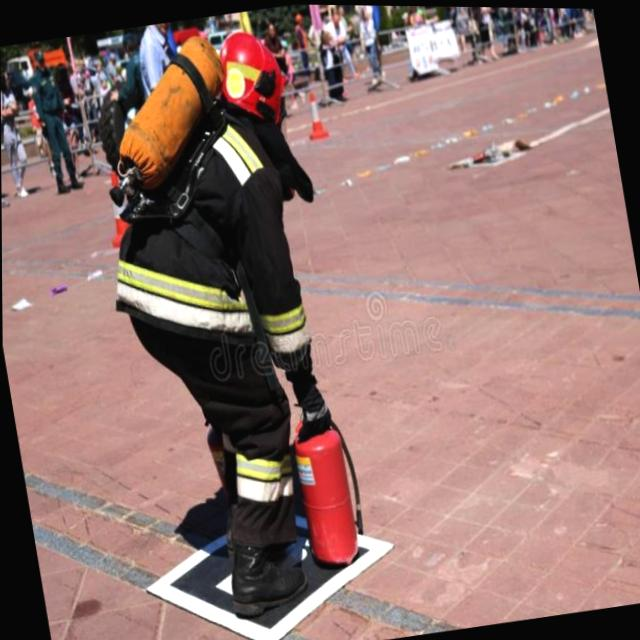FireExtinguisher: (281, 388, 372, 575), (195, 388, 278, 522)
